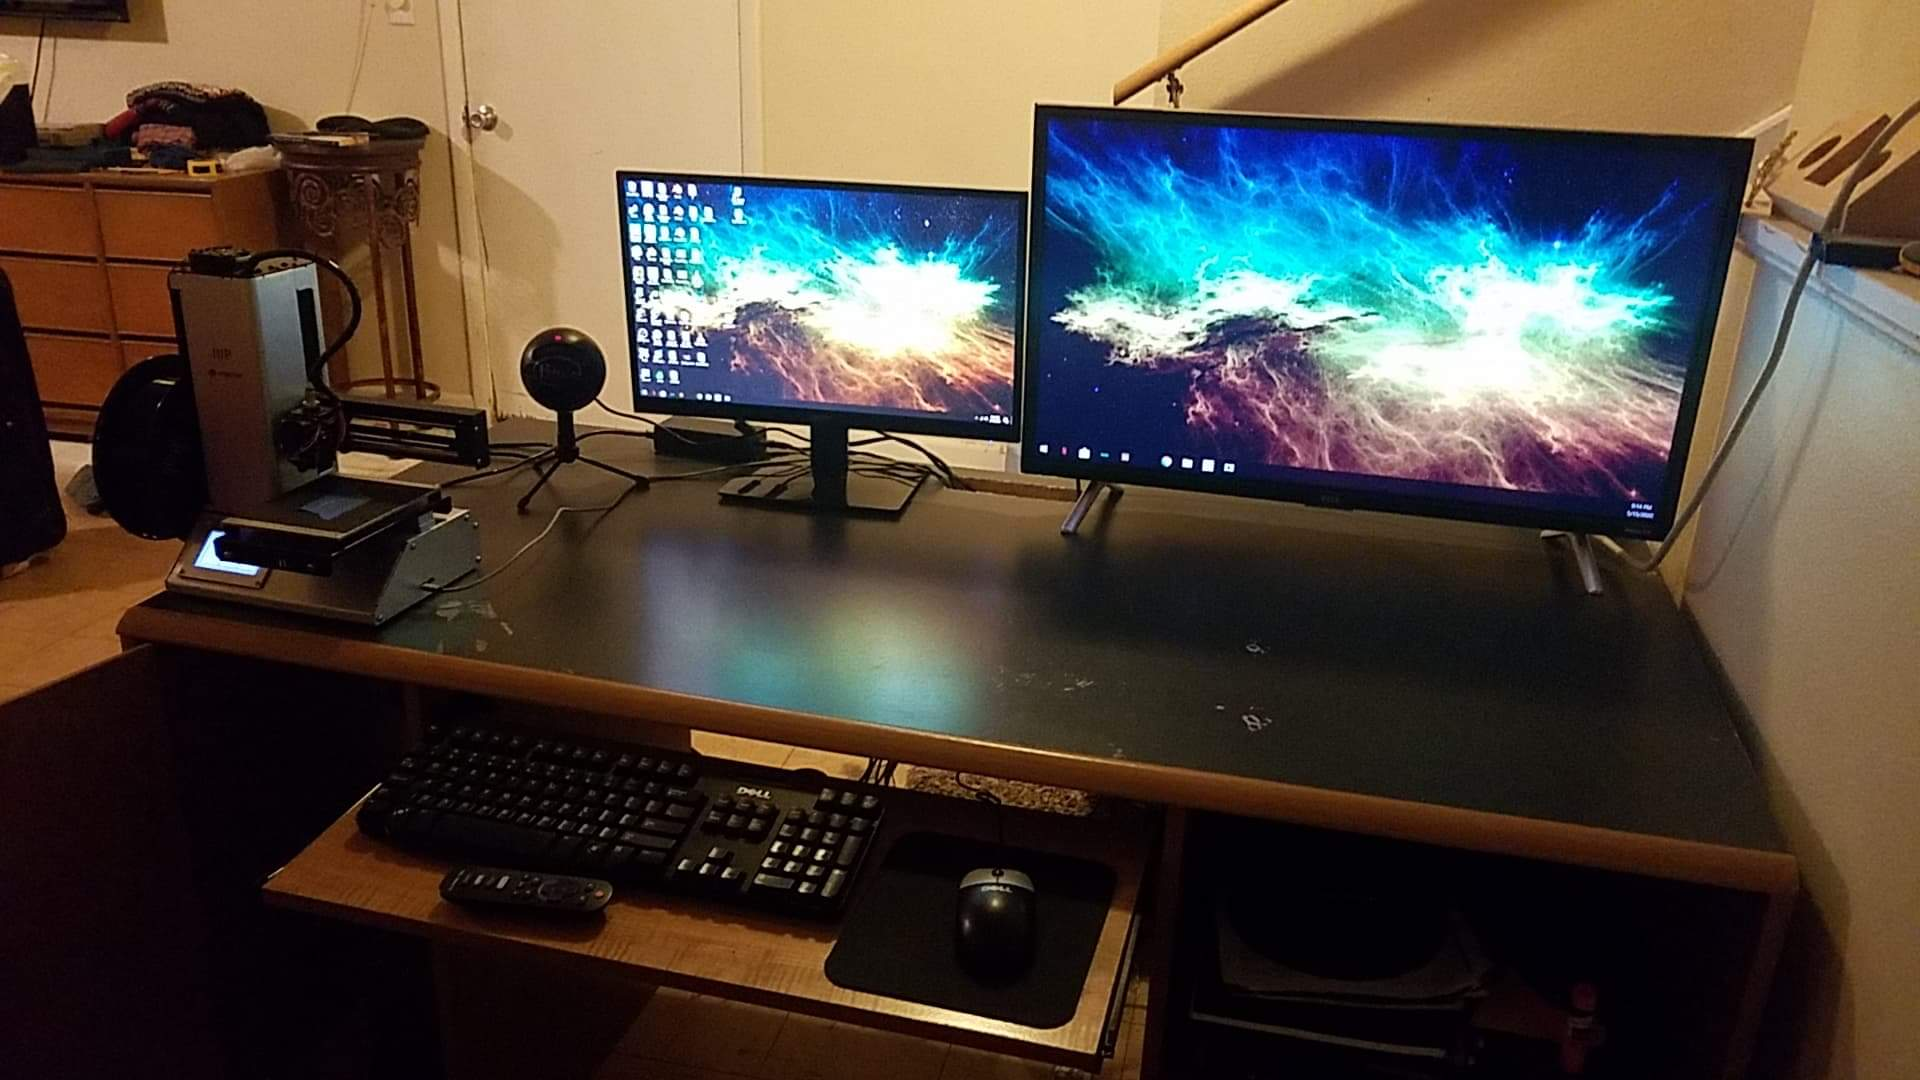Cellphone: (856, 798, 1108, 1014)
Desk (Generic): (138, 413, 1778, 856)
External Microphone (Generic): (510, 328, 616, 489)
Keyboard (Generic): (384, 709, 858, 913)
Monitor (Landscape): (1030, 108, 1691, 545), (618, 171, 1014, 440)
Mouse (Generic): (942, 852, 1046, 982)
